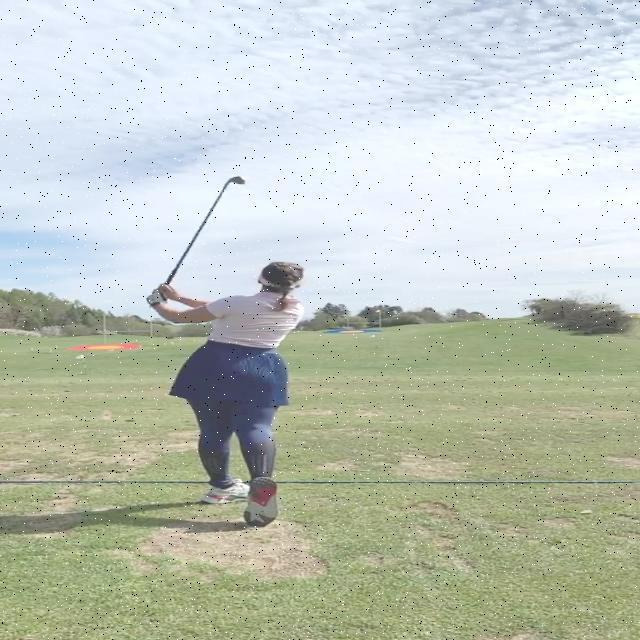ClubHead: (230, 176, 247, 185)
